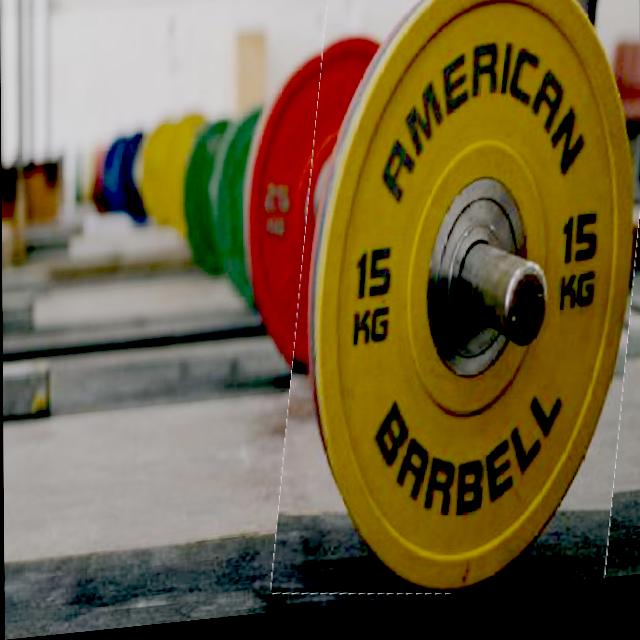barbell: (283, 1, 640, 618)
